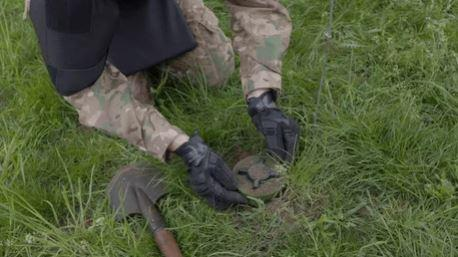pmn: (231, 154, 288, 205)
